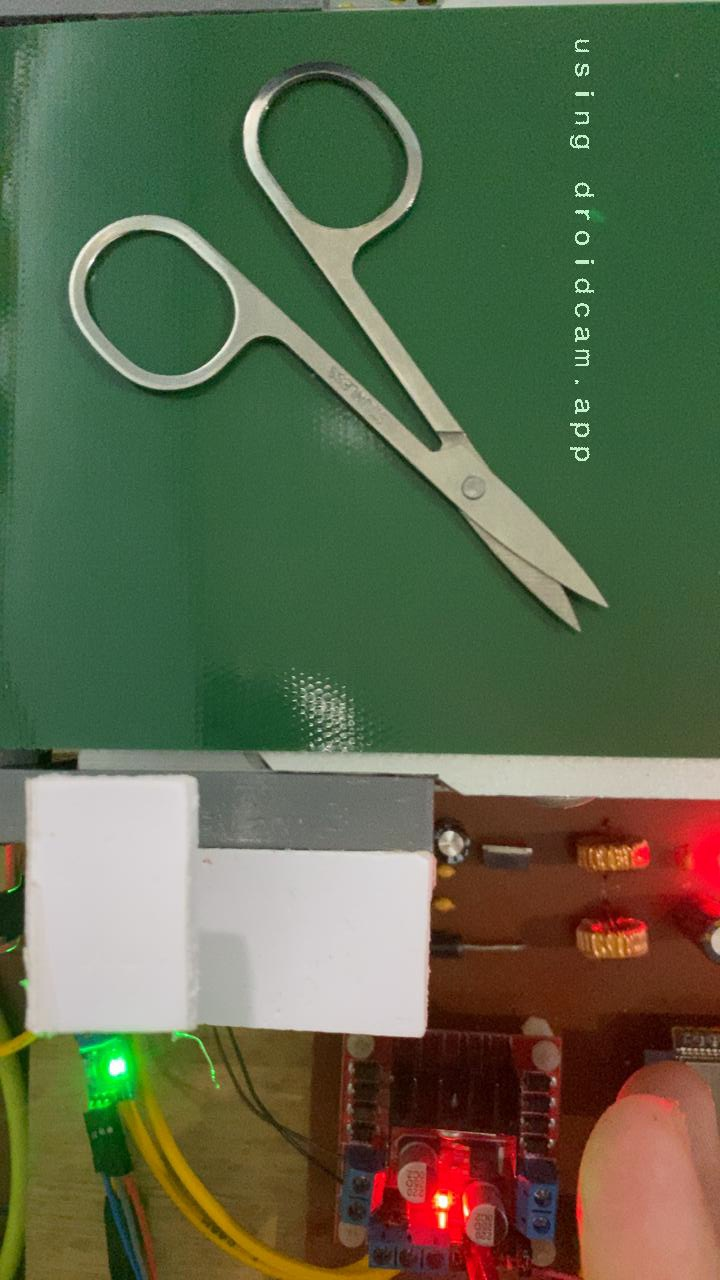scissor: (61, 62, 612, 636)
